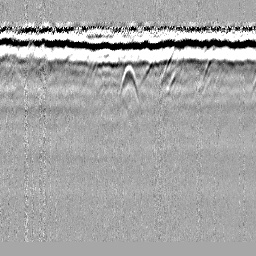cavity: (117, 62, 139, 98)
